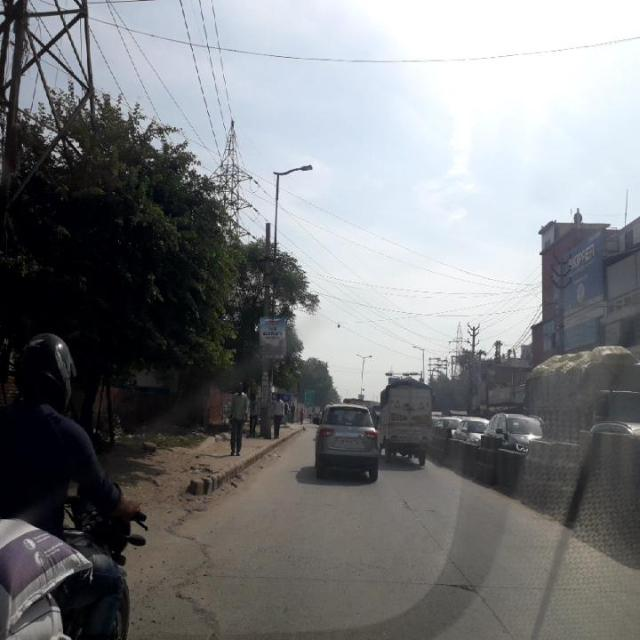D00: (158, 501, 240, 635)
D01: (446, 556, 508, 636), (390, 483, 444, 553)
D11: (195, 553, 639, 611)
